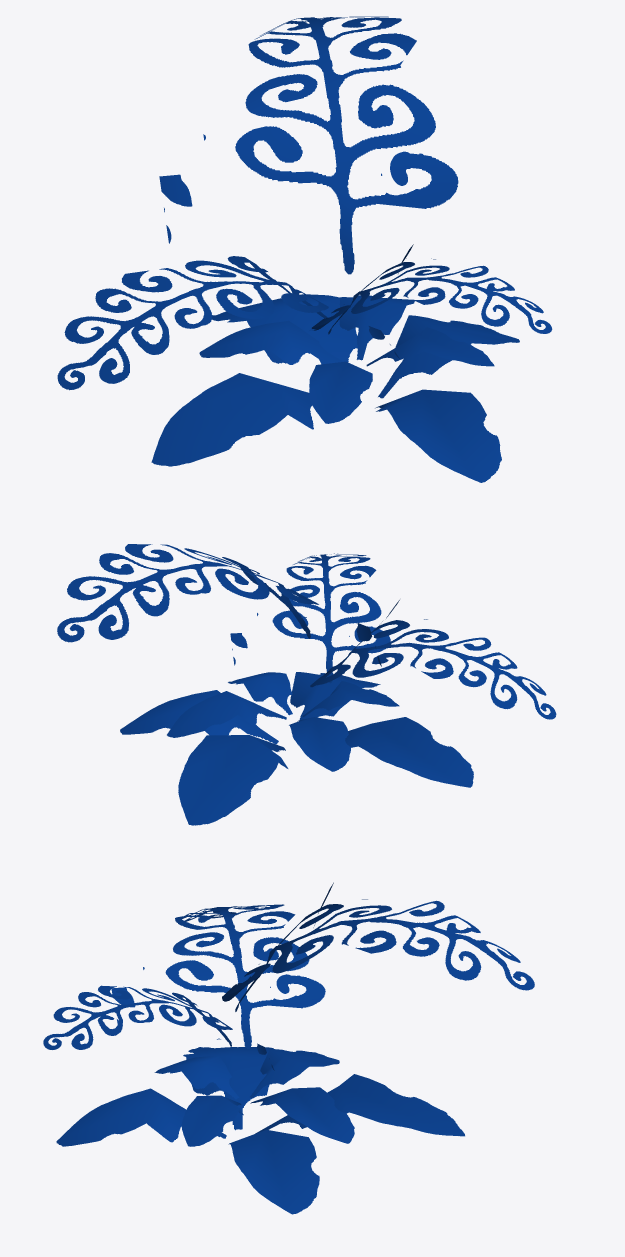
Rendered from SM_FloorSmallBush01.fbx.
The picture shows the model from 3 angles, top to bottom: view 1: azimuth 30°, elevation 25°; view 2: azimuth 150°, elevation 25°; view 3: azimuth 270°, elevation 25°; orthographic projection. The views are drawn at different scales.
Parts seen in each view (by area): view 1: Plane037; view 2: Plane037; view 3: Plane037.
Part boxes in pixels (x1,y1,x2,y2): Plane037: (57,16,552,482); Plane037: (57,544,556,825); Plane037: (43,882,534,1214).
Bounding box in the file's own units: 78.01 × 38.58 × 81.26.
